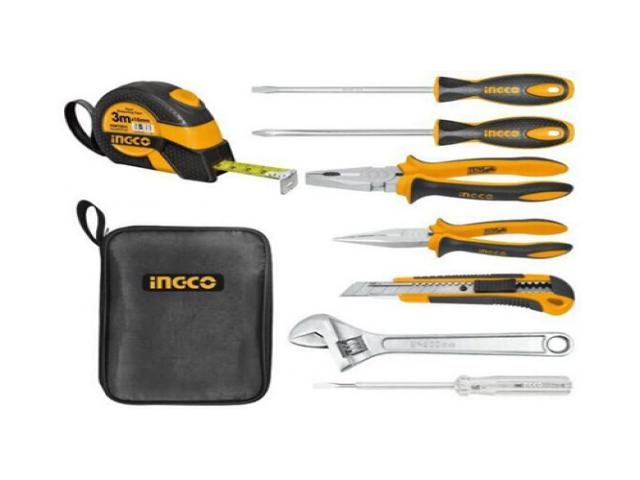Adjustable spanner: (289, 314, 574, 371)
Needle-nose pliers: (334, 218, 572, 258)
Pliers: (306, 156, 572, 203)
Screwdriver: (252, 116, 572, 148), (252, 74, 574, 105), (314, 376, 572, 395)
Tape measure: (65, 82, 298, 194)
Utility knife: (341, 275, 574, 315)
